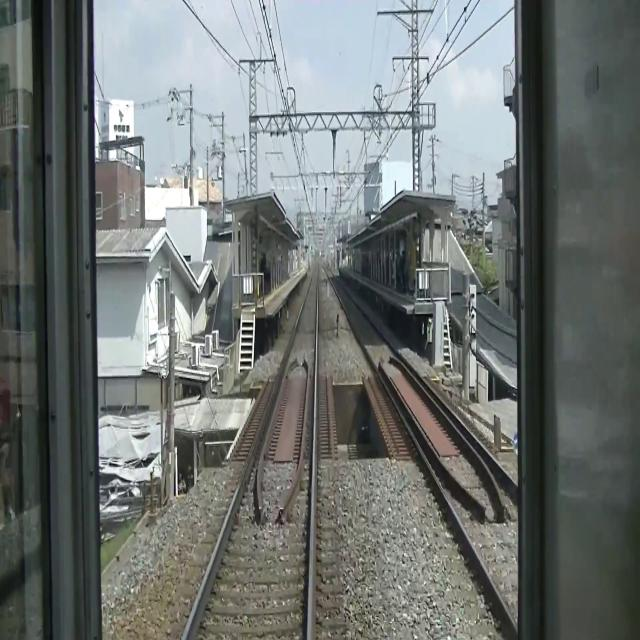rail-track: (324, 265, 516, 619), (192, 263, 317, 639)
